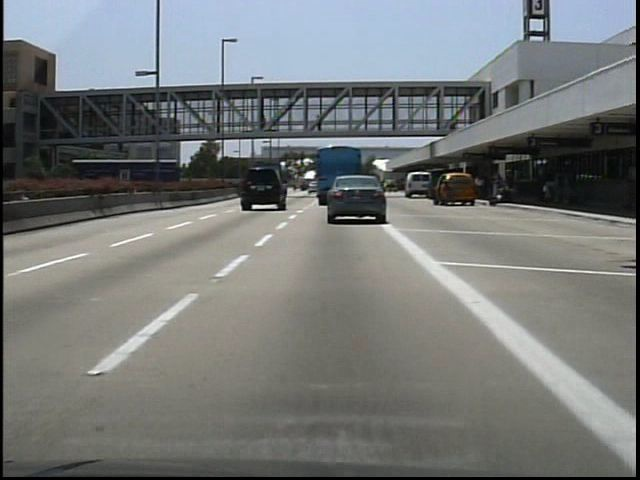person: (440, 177, 458, 214), (313, 114, 327, 139), (256, 111, 271, 134)
